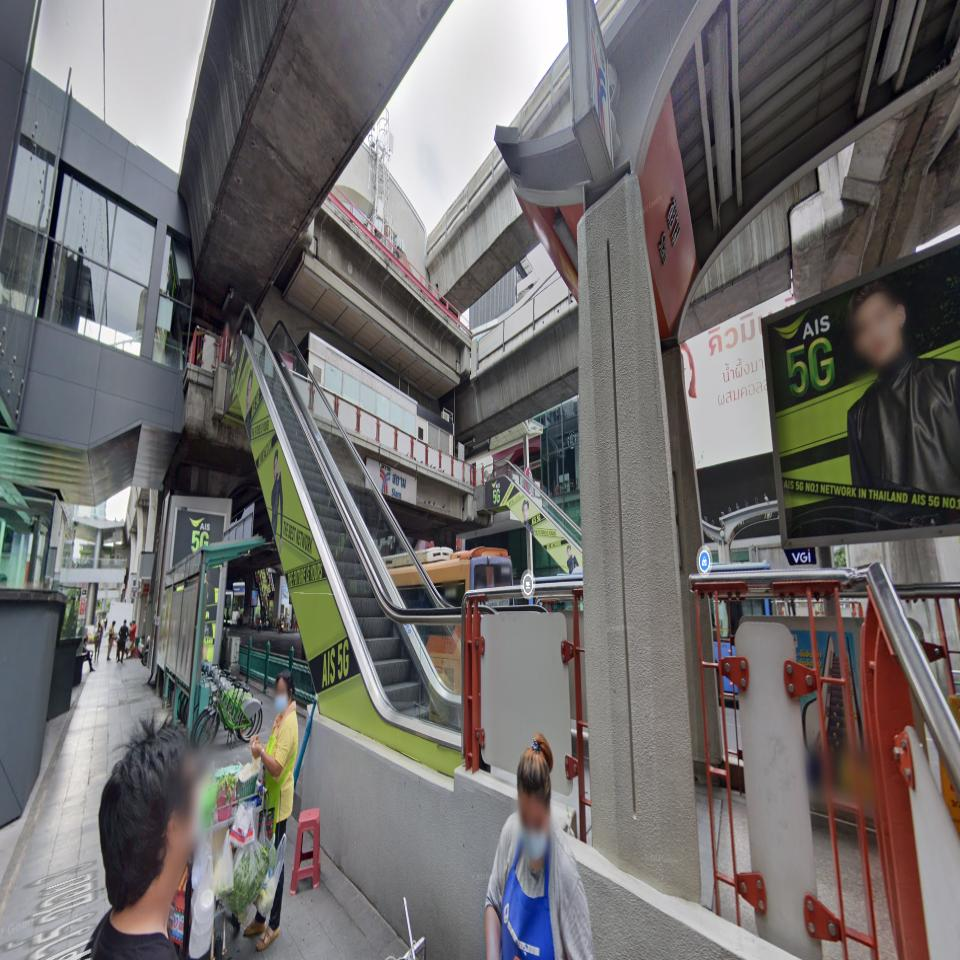Siam: (588, 0, 700, 340), (639, 88, 699, 340), (380, 463, 406, 500), (392, 474, 406, 500)
